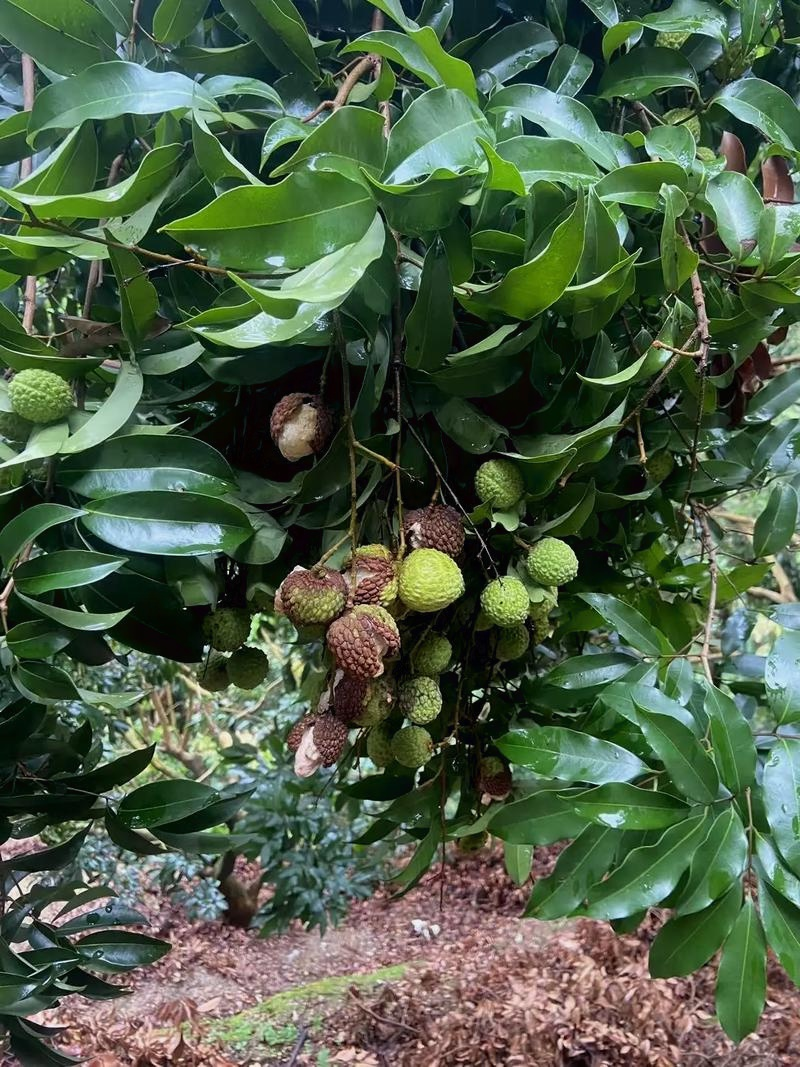Anthracnose: (635, 104, 769, 491), (214, 717, 376, 806), (294, 606, 419, 702), (384, 476, 475, 561), (264, 388, 341, 475), (271, 565, 363, 628)
